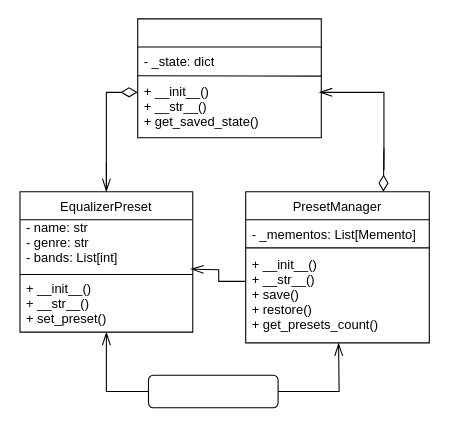
This 449x427 diagram has some shape labels left out. The shapes that lost their labels are listed below. From the top down, each one's box as (x1, y1, x2, y2) in pixels, then its label:
(137, 18, 321, 138): Memento
(147, 374, 278, 408): Client
